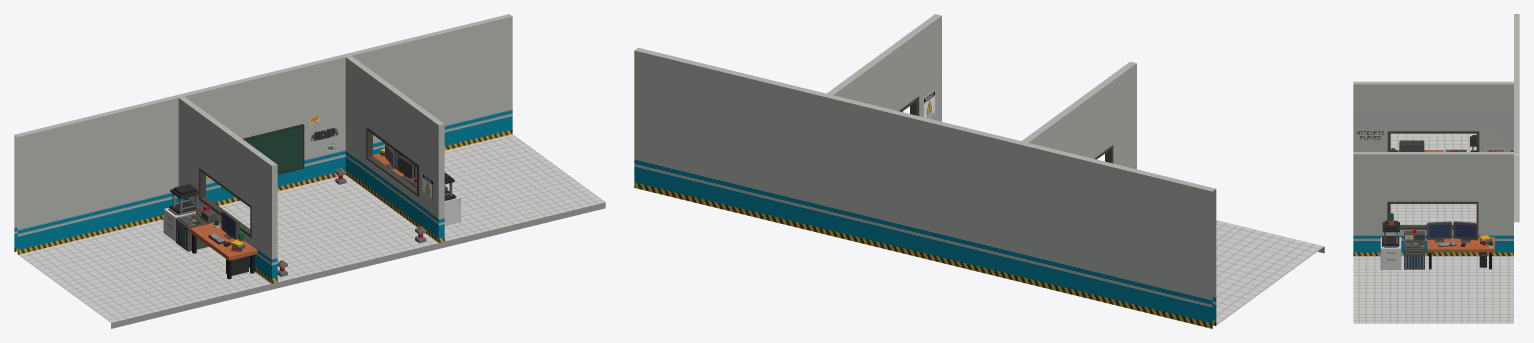
File: scenegame_v05.fbx
3 renders of one model, left to right at view 1: azimuth 30°, elevation 25°; view 2: azimuth 150°, elevation 25°; view 3: azimuth 270°, elevation 25°, orthographic. The views are drawn at different scales.
Visible parts, largest first — view 1: scenegame_mesh_; view 2: scenegame_mesh_; view 3: scenegame_mesh_.
Boxes of the visible parts, x1,y1,x2,y2 form: scenegame_mesh_: (14,14,605,328); scenegame_mesh_: (634,14,1324,328); scenegame_mesh_: (1353,14,1519,323).
Size of the model in its own units: 6876 by 2320 by 1642.
